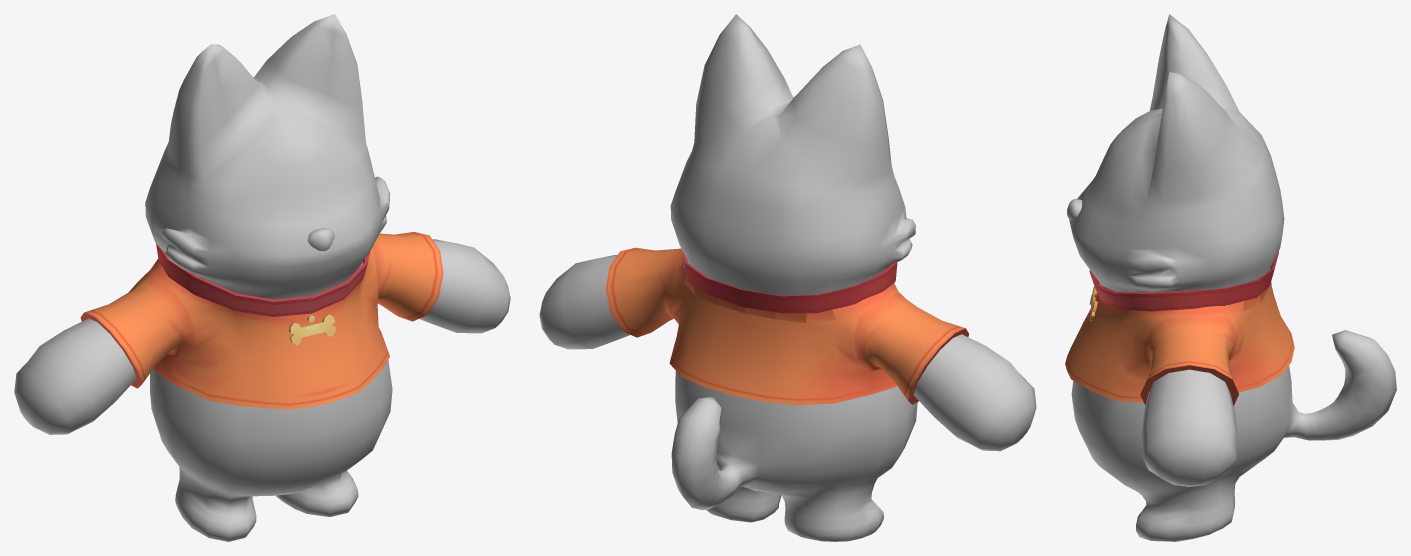
File: dog_Lv2.fbx
3 renders of one model, left to right at view 1: azimuth 30°, elevation 25°; view 2: azimuth 150°, elevation 25°; view 3: azimuth 270°, elevation 25°, orthographic. The views are drawn at different scales.
Visible parts, largest first — view 1: dog, clothes1, necklace; view 2: dog, clothes1, necklace; view 3: dog, clothes1, necklace.
Boxes of the visible parts, x1,y1,x2,y2 form: dog: [14, 14, 510, 541]; clothes1: [80, 232, 443, 409]; necklace: [156, 244, 369, 345]; dog: [539, 14, 1036, 541]; clothes1: [605, 247, 969, 405]; necklace: [682, 251, 897, 313]; dog: [1067, 14, 1396, 541]; clothes1: [1065, 282, 1294, 405]; necklace: [1089, 251, 1278, 321].
Bounding box in the file's own units: 162 × 159 × 102.
